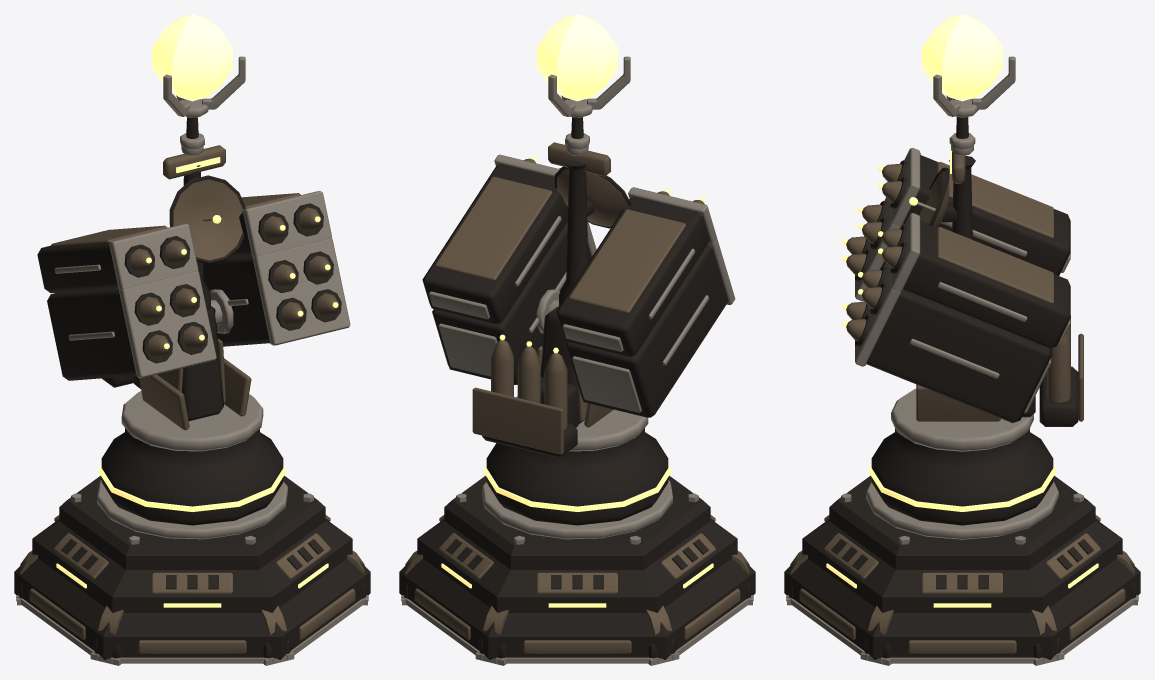
The model's file is tower_missile.glb.
The picture shows the model from 3 angles, left to right: view 1: azimuth 30°, elevation 25°; view 2: azimuth 150°, elevation 25°; view 3: azimuth 270°, elevation 25°; orthographic projection.
Parts seen in each view (by area): view 1: base, barrel_2, lvl2, turret, barrel_1, lvl3, tower_missile; view 2: base, lvl2, barrel_2, lvl3, turret, barrel_1, tower_missile; view 3: base, lvl2, barrel_1, turret, lvl3, tower_missile, barrel_2.
Part boxes in pixels (x1=…): base: x1=14, y1=428, x2=370, y2=665; barrel_2: x1=47, y1=271, x2=216, y2=380; lvl2: x1=37, y1=191, x2=331, y2=292; turret: x1=121, y1=56, x2=263, y2=451; barrel_1: x1=203, y1=238, x2=350, y2=346; lvl3: x1=102, y1=175, x2=251, y2=430; tower_missile: x1=152, y1=14, x2=232, y2=101; base: x1=399, y1=428, x2=755, y2=665; lvl2: x1=422, y1=154, x2=716, y2=356; barrel_2: x1=565, y1=238, x2=735, y2=417; lvl3: x1=472, y1=166, x2=631, y2=458; turret: x1=516, y1=56, x2=648, y2=451; barrel_1: x1=432, y1=221, x2=596, y2=384; tower_missile: x1=537, y1=14, x2=617, y2=101; base: x1=784, y1=428, x2=1140, y2=665; lvl2: x1=878, y1=148, x2=1070, y2=348; barrel_1: x1=842, y1=262, x2=1051, y2=422; turret: x1=891, y1=56, x2=1035, y2=451; lvl3: x1=909, y1=167, x2=1083, y2=426; tower_missile: x1=922, y1=14, x2=1002, y2=101; barrel_2: x1=842, y1=197, x2=903, y2=301.
Size of the model in its own units: 1.66 by 3.34 by 1.85.
